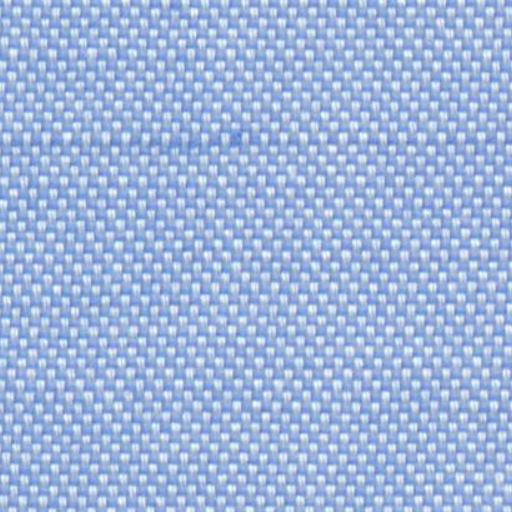DaiSha: (8, 122, 492, 150)
